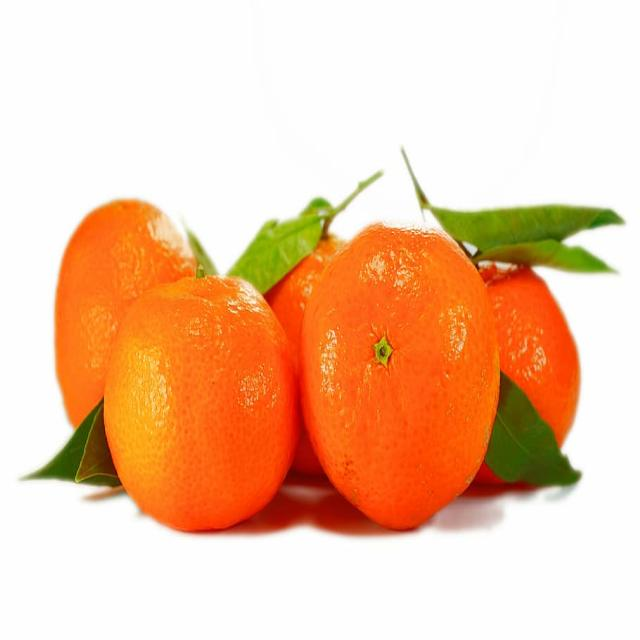orange: (309, 222, 488, 535), (107, 262, 298, 536)
